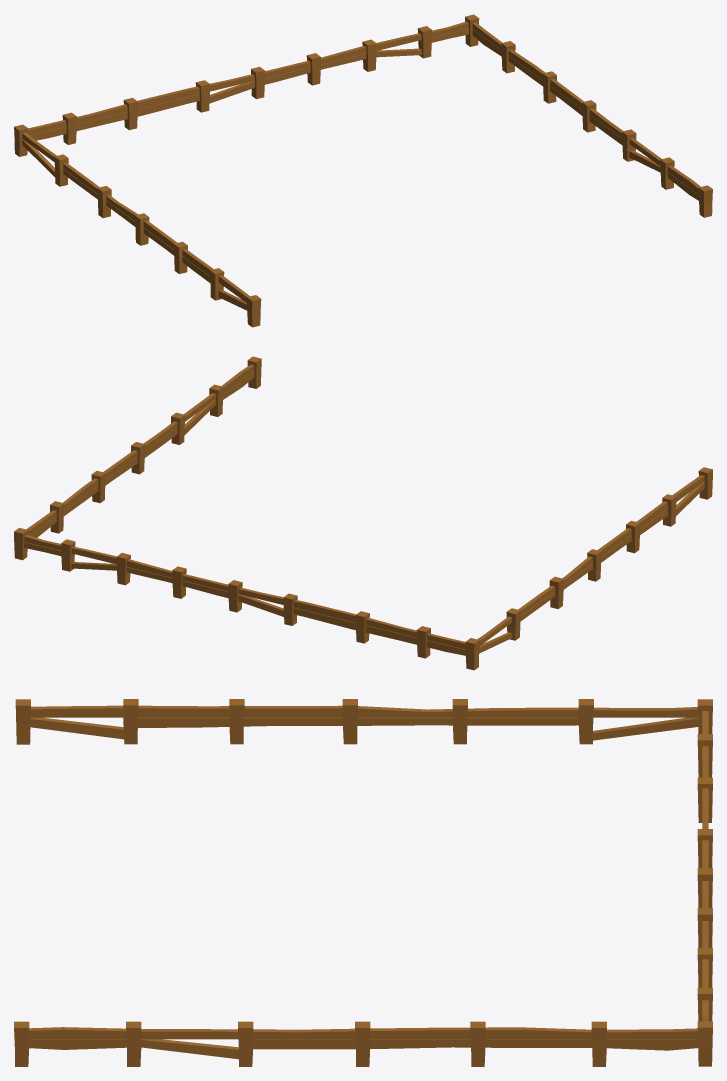
File: fence003.fbx
3 views of the same model, one above another, from view 1: azimuth 30°, elevation 25°; view 2: azimuth 150°, elevation 25°; view 3: azimuth 270°, elevation 25° (orthographic). The views are drawn at different scales.
Parts seen in each view (by area): view 1: fence003; view 2: fence003; view 3: fence003.
Part boxes in pixels (x1=…): fence003: x1=14, y1=14, x2=712, y2=327; fence003: x1=14, y1=356, x2=712, y2=670; fence003: x1=14, y1=699, x2=712, y2=1066.
Bounding box in the file's own units: 4779 × 267 × 4292.
